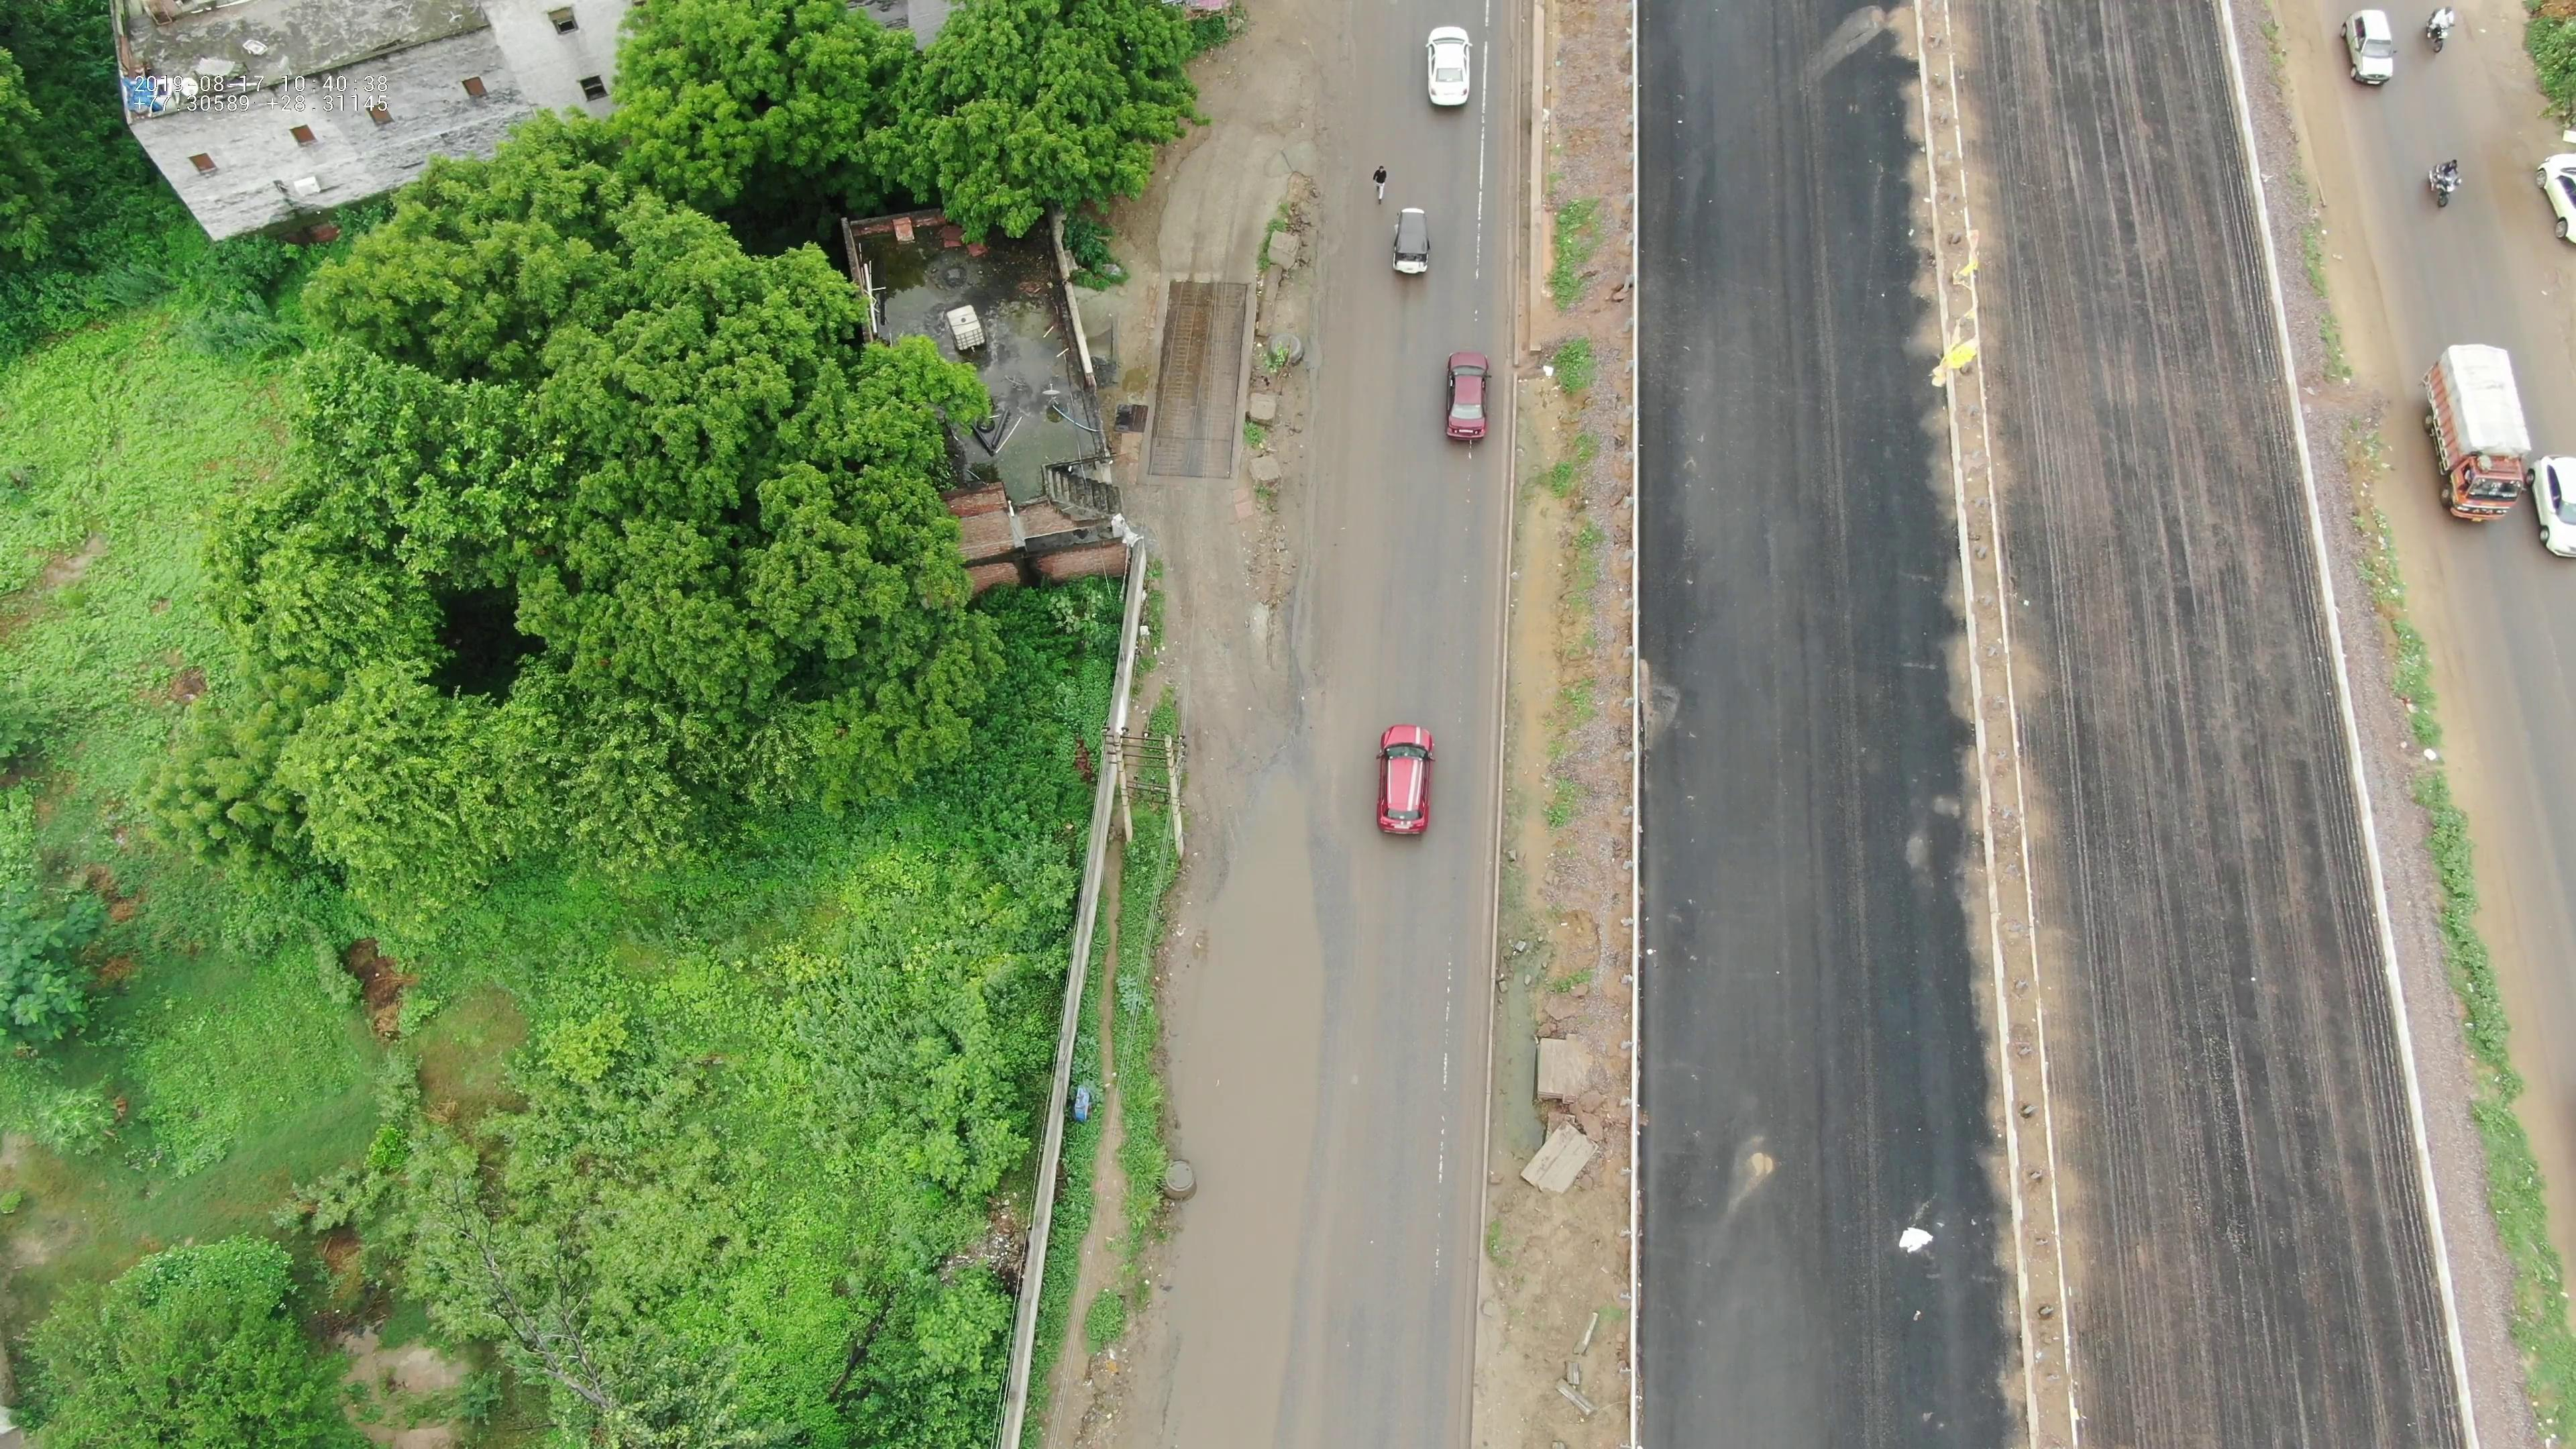Waterlogging: (1136, 741, 1338, 1433)
